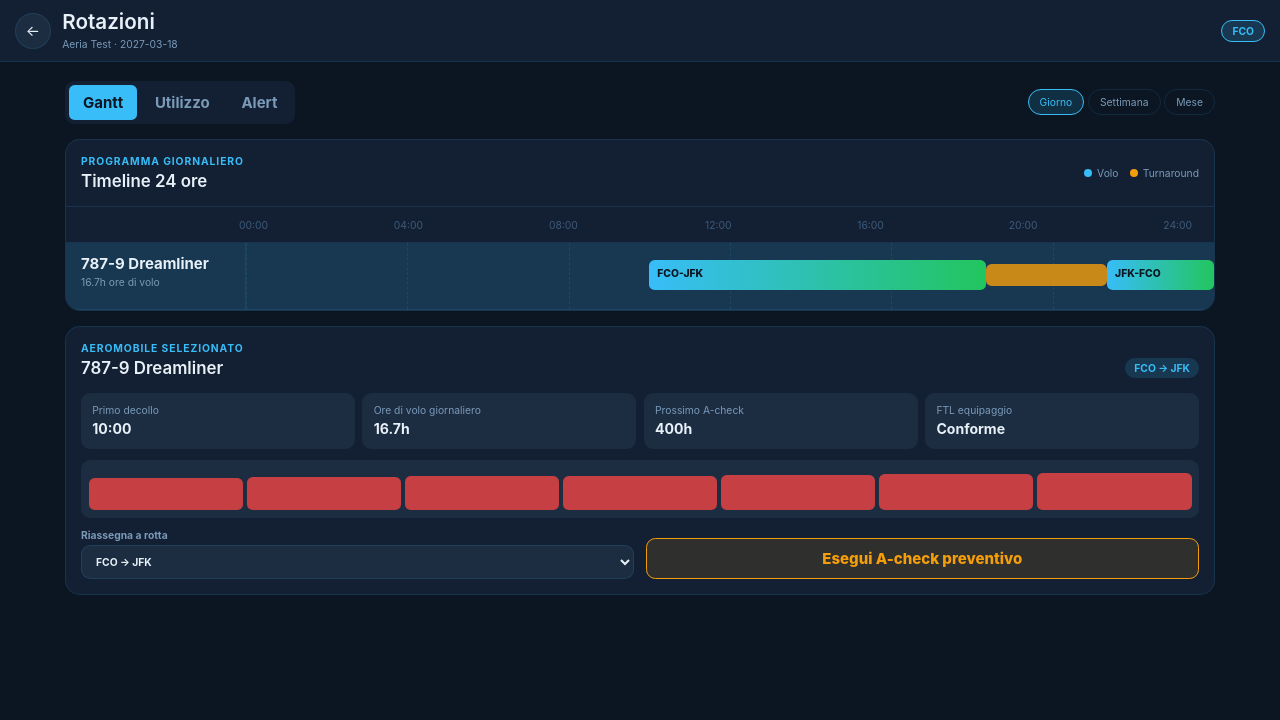
Scenario: Rotations screen › renders the real fleet schedule and aircraft details
The image size is (1280, 720).
Later steps or results of the test are not shown.
Expected: the heading "Rotazioni" is shown, 62,9 -> 155,34
Expected: the text "10:00" is shown, 92,420 -> 132,437
Click the button "Utilizzo": (182, 102) 141,85 -> 224,120
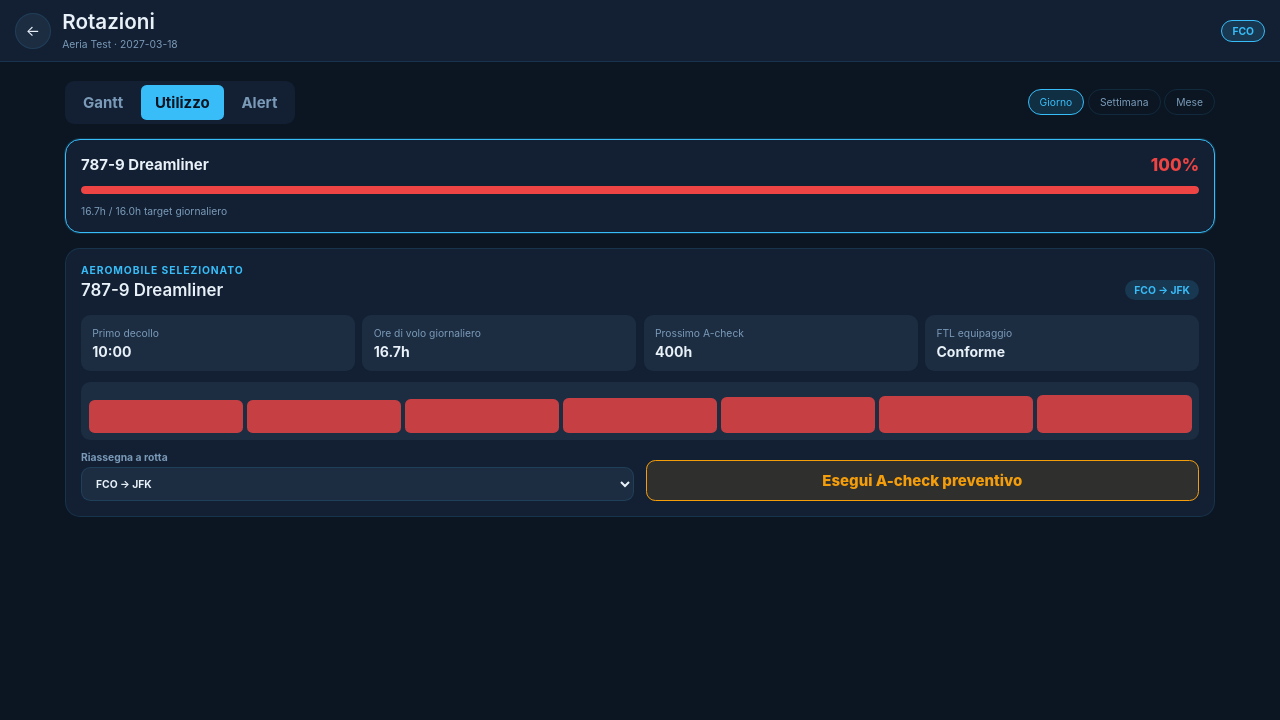
Now the text "16.7h / 16.0h target giornaliero" is shown, box 81,205 -> 227,217
Click the button "Alert": (259, 102) 227,85 -> 292,120
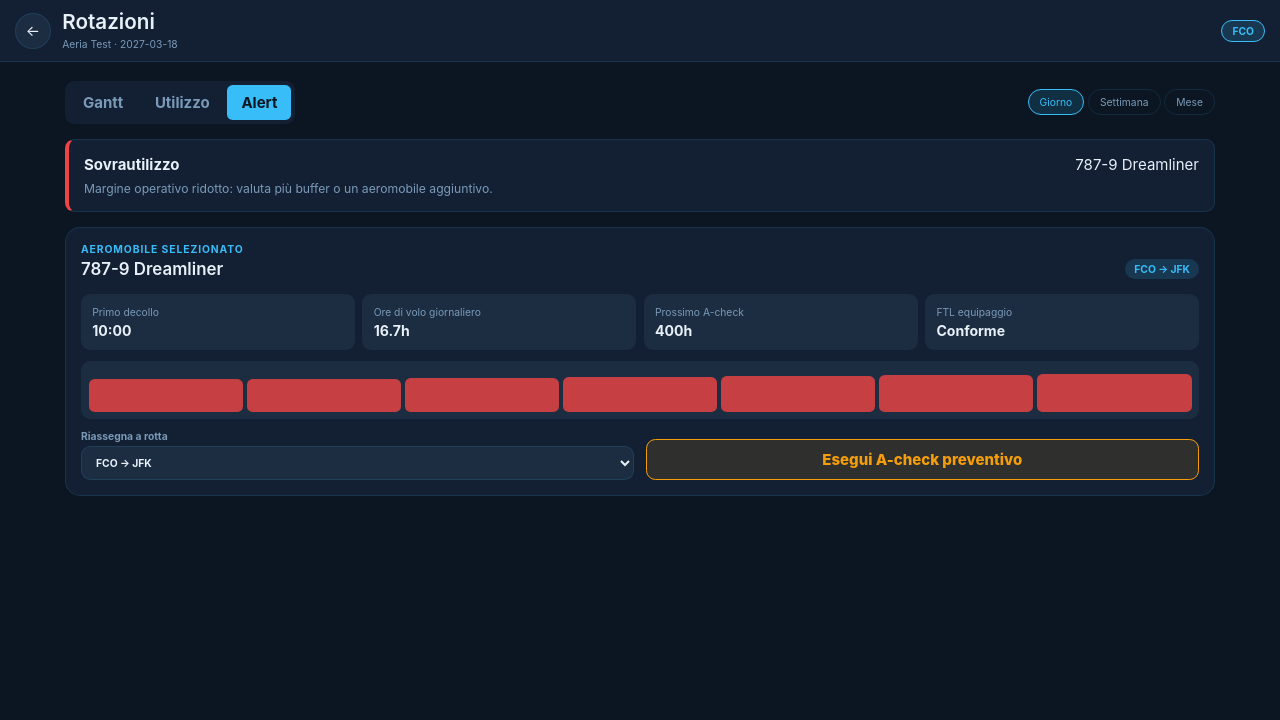
Now the text "Sovrautilizzo" is shown, box 84,155 -> 180,174
